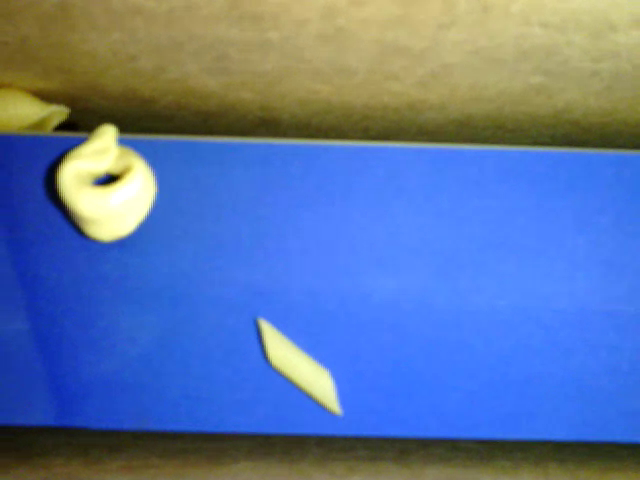penne: (255, 314, 341, 417)
shell: (1, 84, 72, 133)
tortellini: (54, 118, 159, 242)
